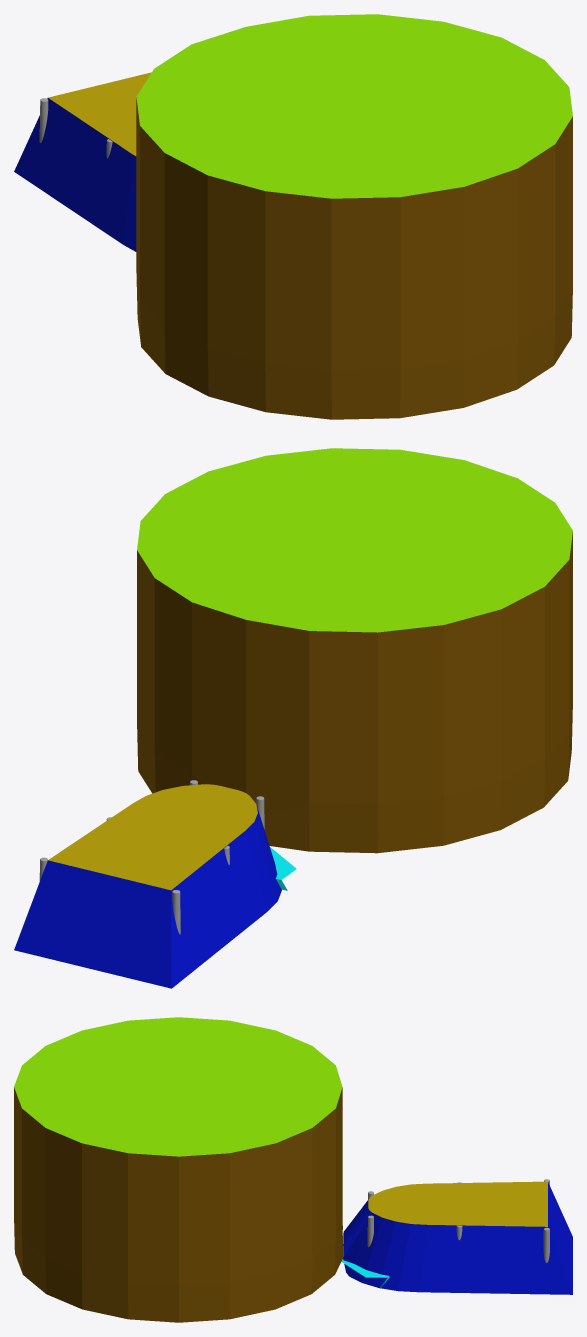
The model's file is B3PRUEBA.fbx.
3 views of the same model, one above another, from view 1: azimuth 30°, elevation 25°; view 2: azimuth 150°, elevation 25°; view 3: azimuth 270°, elevation 25° (orthographic). The views are drawn at different scales.
Visible parts, largest first — view 1: PisoSupay, PisoDescanso; view 2: PisoSupay, PisoDescanso; view 3: PisoSupay, PisoDescanso.
Part boxes in pixels (x1,y1,x2,y2): PisoSupay: (136,14,572,419); PisoDescanso: (14,72,151,251); PisoSupay: (137,448,572,853); PisoDescanso: (14,784,281,988); PisoSupay: (14,1017,342,1322); PisoDescanso: (343,1181,572,1294).
Size of the model in its own units: 48.51 by 29.03 by 82.18.
